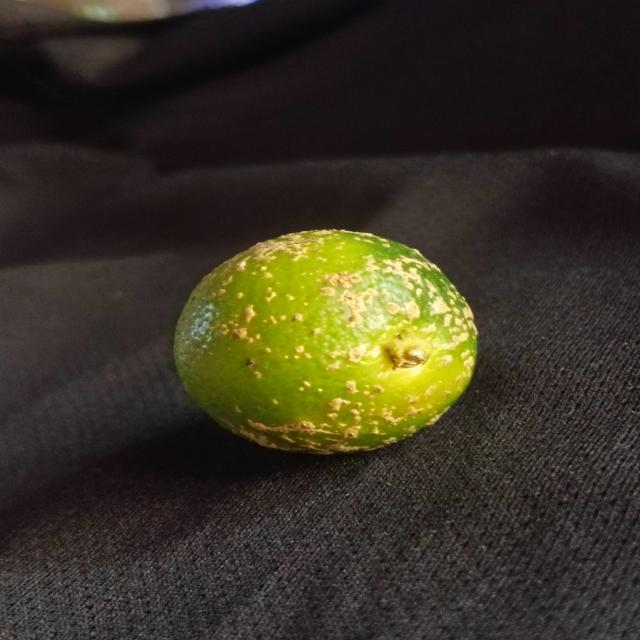scab: (165, 224, 485, 458)
